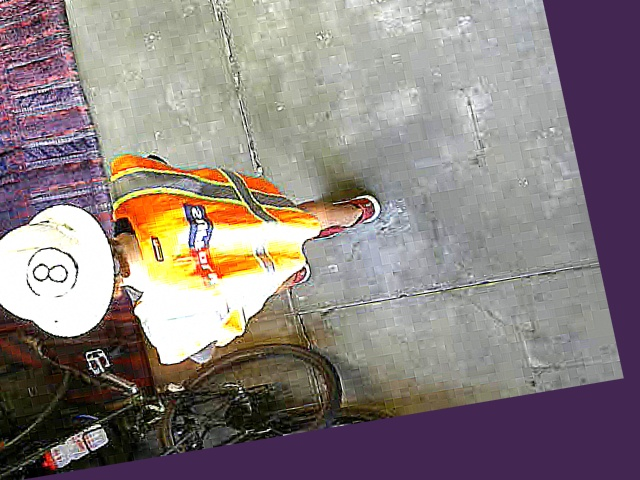eight: (17, 241, 82, 303)
